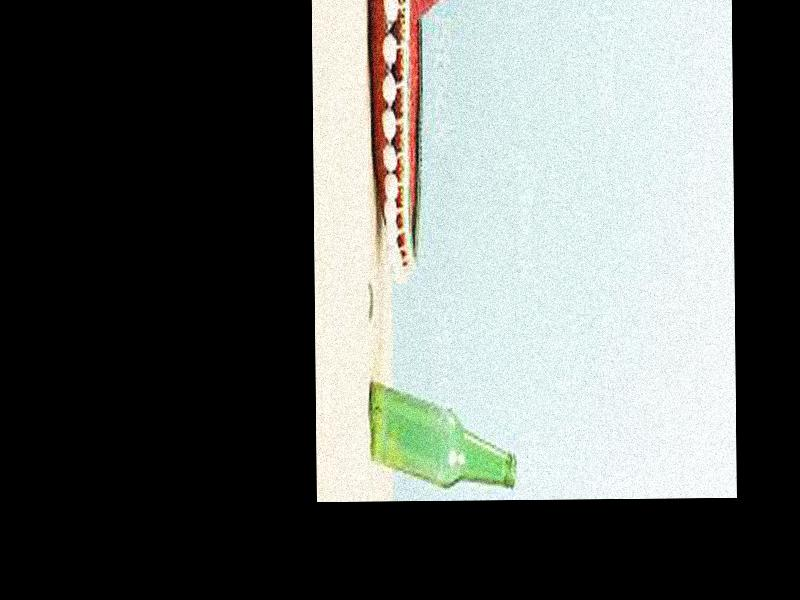Beer: (365, 378, 517, 486)
